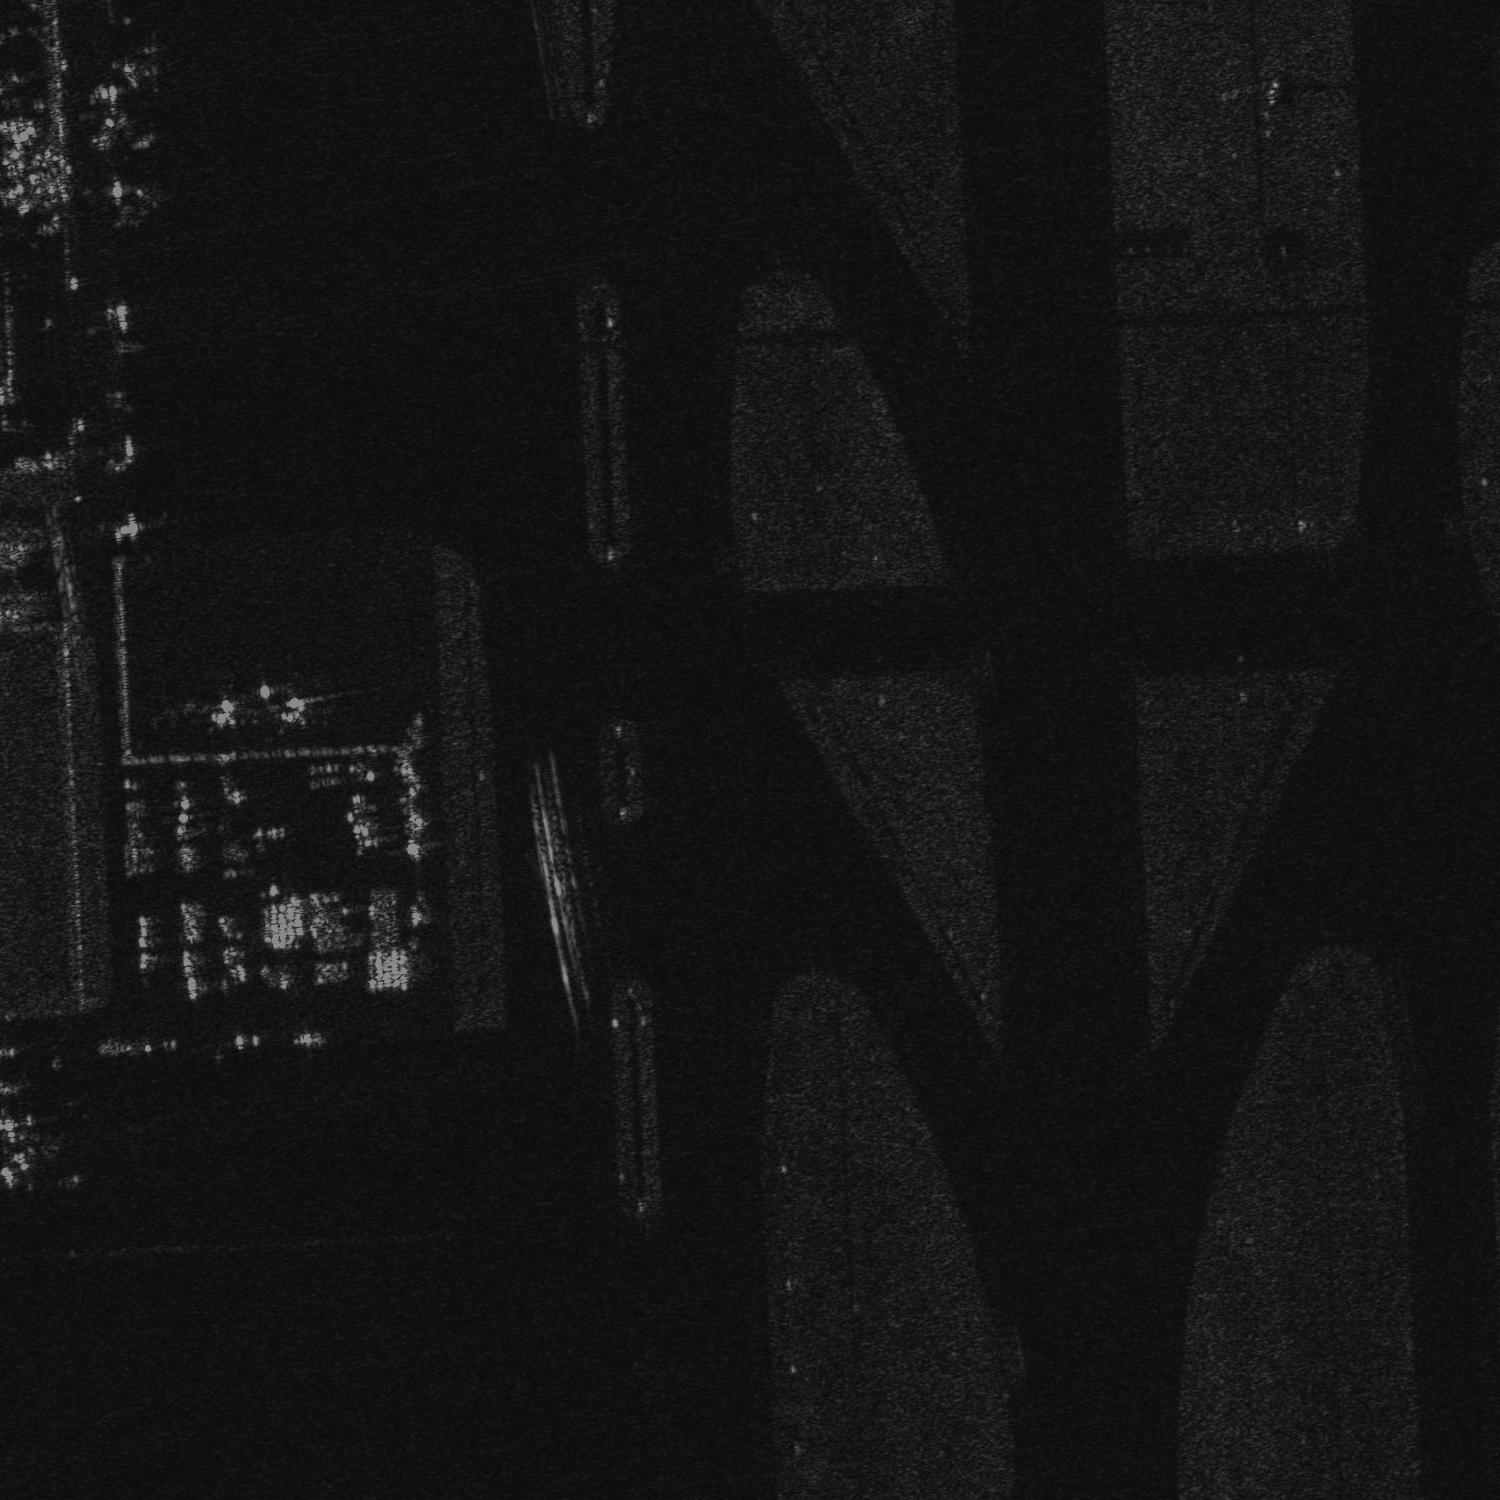ARJ21: (192, 679, 257, 736)
other: (107, 27, 190, 93), (262, 681, 332, 734)
